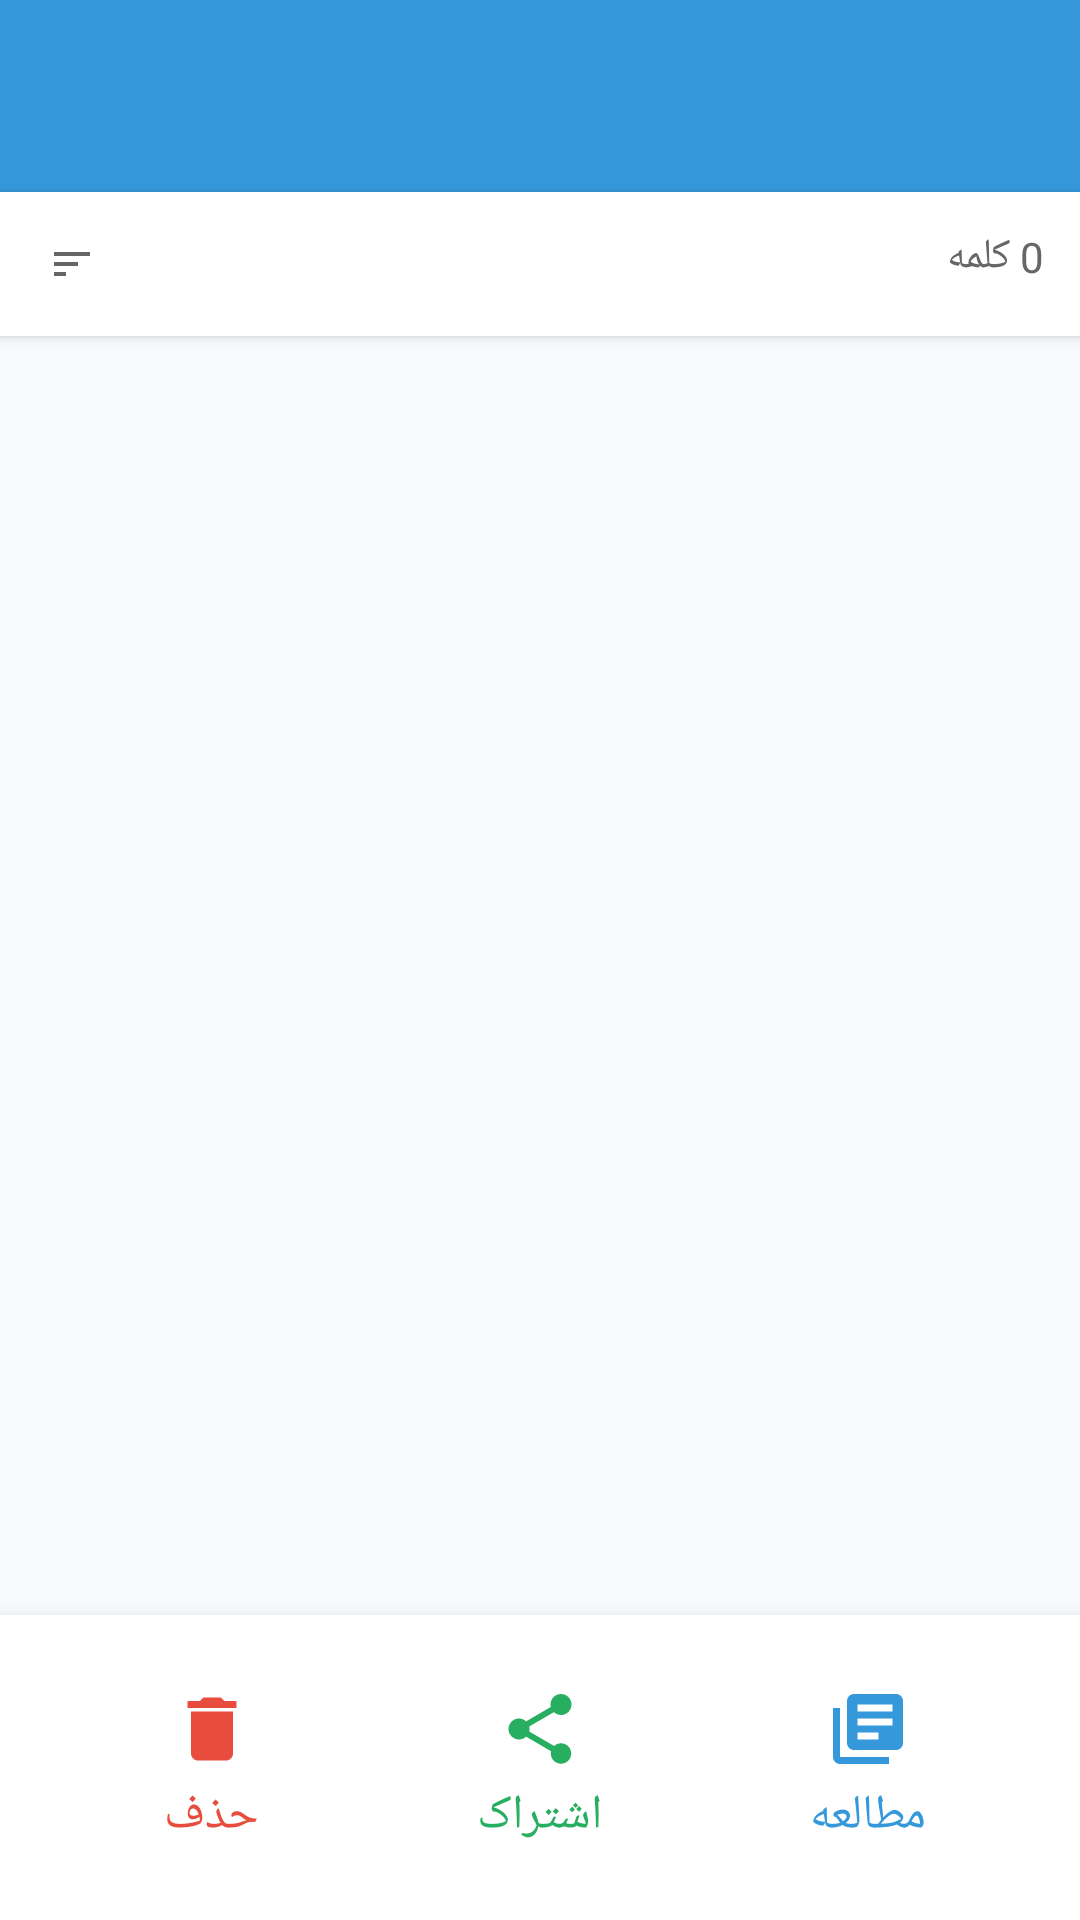

Icons on this 1080x1920 Android screen, each with the point to tap as [x,y]:
share: [540,1729]
sort: [72,264]
